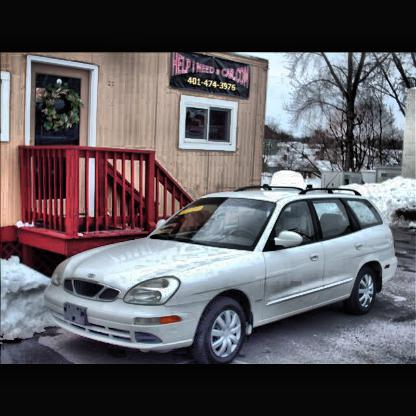Daewoo Nubira Wagon 2002: (45, 186, 400, 365)
